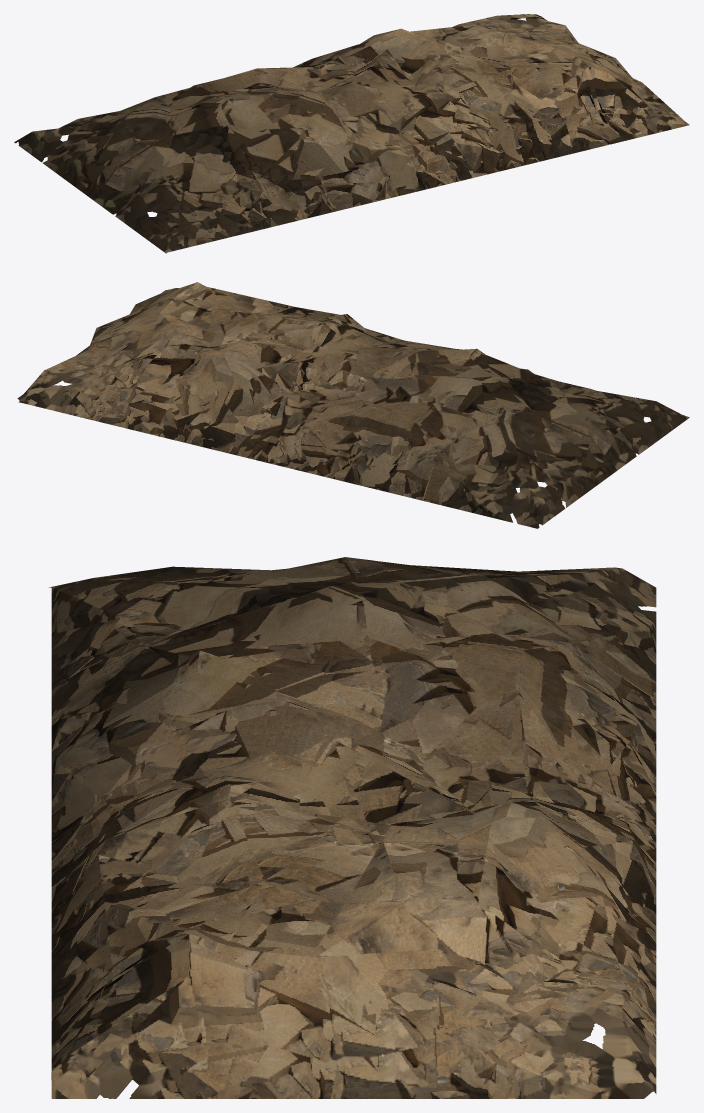
The model's file is Rubble.fbx.
3 renders of one model, top to bottom at view 1: azimuth 30°, elevation 25°; view 2: azimuth 150°, elevation 25°; view 3: azimuth 270°, elevation 25°, orthographic. The views are drawn at different scales.
Parts seen in each view (by area): view 1: rubbleMesh; view 2: rubbleMesh; view 3: rubbleMesh.
Part boxes in pixels (x1,y1,x2,y2): rubbleMesh: [14, 14, 689, 253]; rubbleMesh: [17, 282, 689, 528]; rubbleMesh: [49, 557, 656, 1098].
Size of the model in its own units: 600 by 68.4 by 302.
